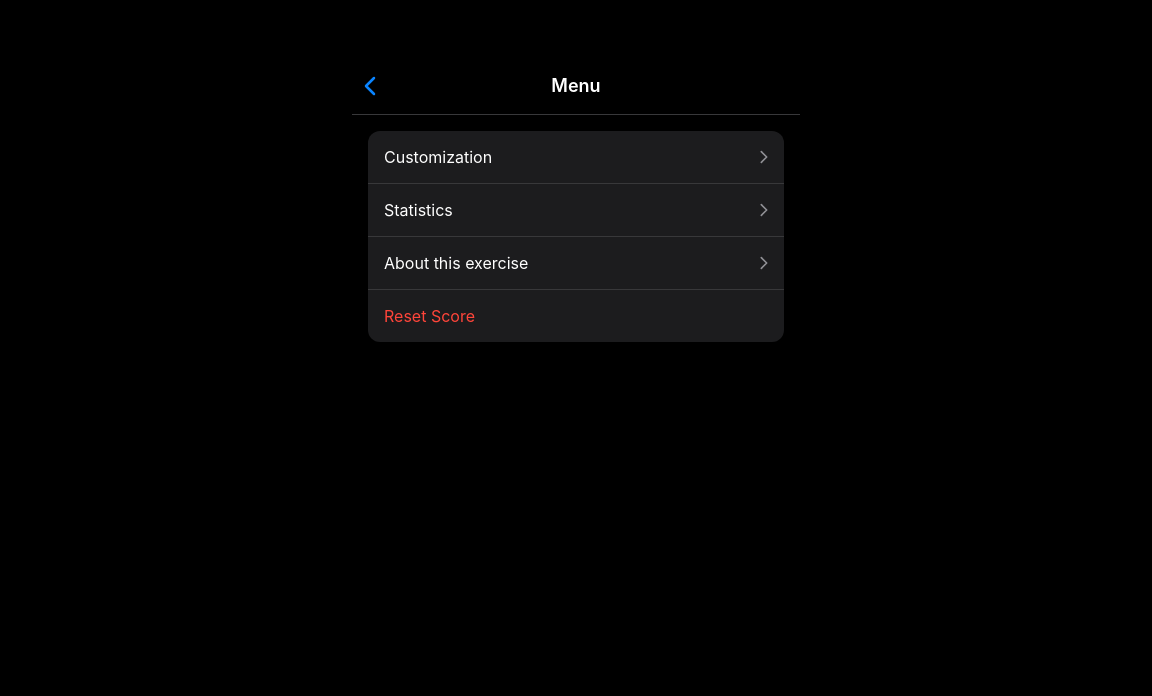
Scenario: intervals screen › lists all 24 intervals, split into simple and compound
The image size is (1152, 696).
What coordinates should you click on to do the following:
click the button "Customization"
I would click on:
 (438, 157)
Its box is [368,131,784,183].
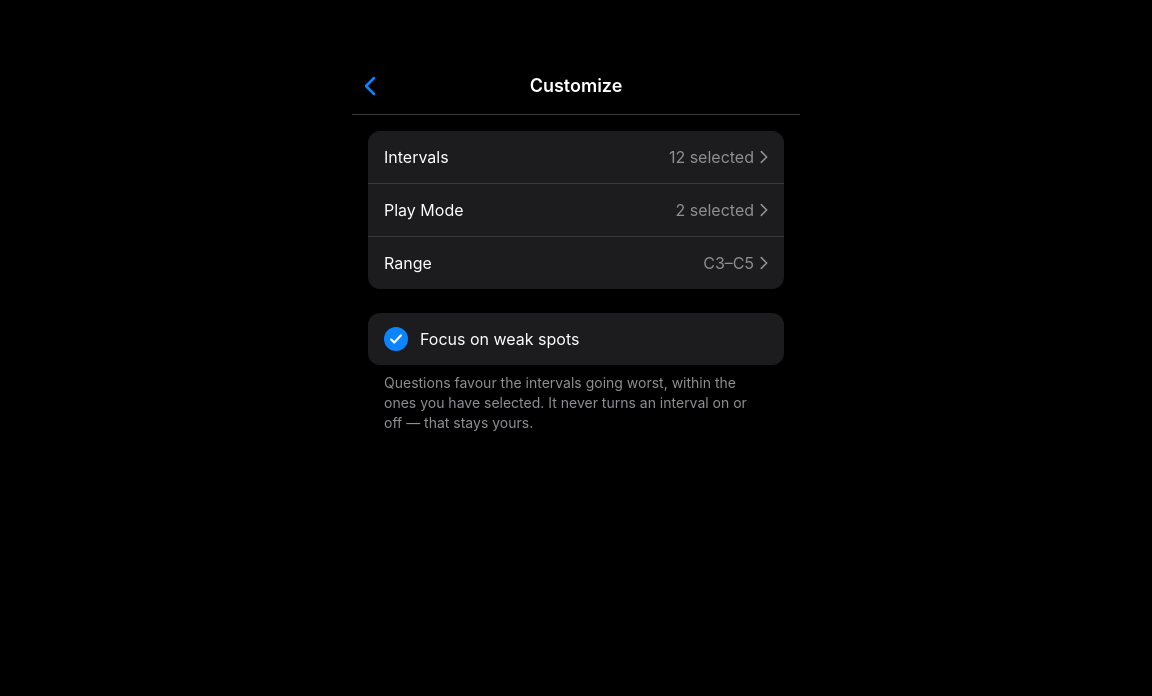
What coordinates should you click on to do the following:
click the button "Intervals 12 selected"
I would click on:
 (416, 157)
Its box is [368,131,784,183].
(page scrolled)
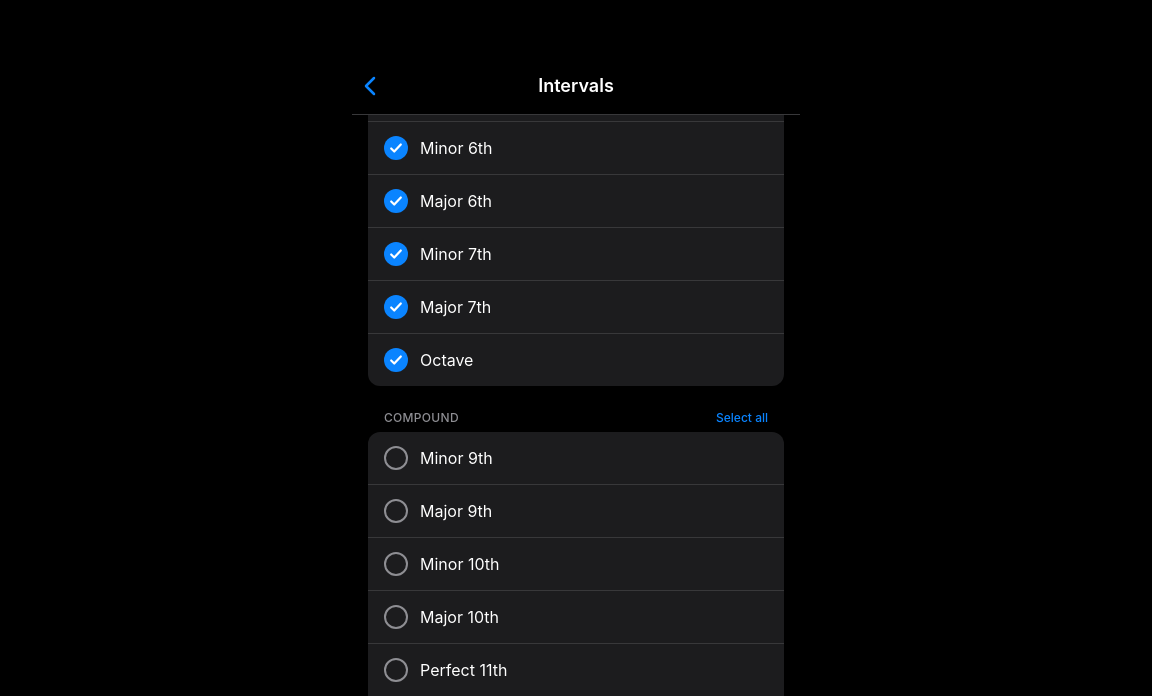
Result: the heading "Compound" is shown at [384,410,459,426]
